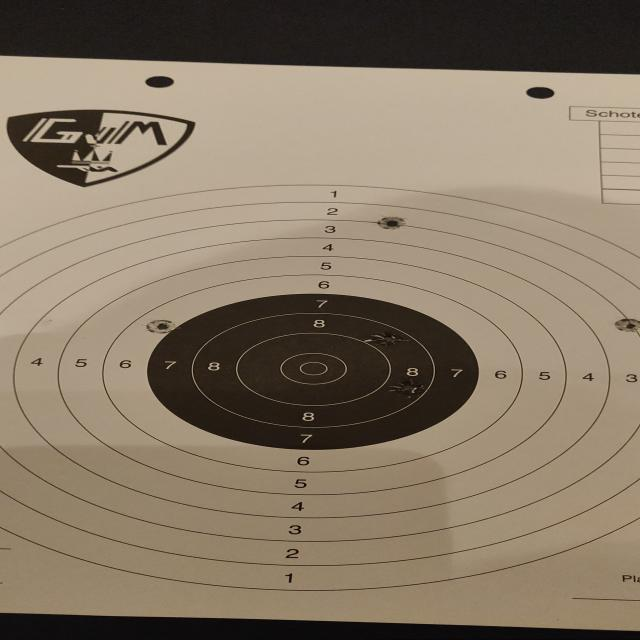4: (374, 215, 412, 230), (615, 317, 640, 332)
7: (146, 320, 177, 334)
9: (394, 381, 428, 398), (371, 332, 408, 347)
Black Contour: (147, 292, 481, 450)
Target: (0, 182, 640, 592)
